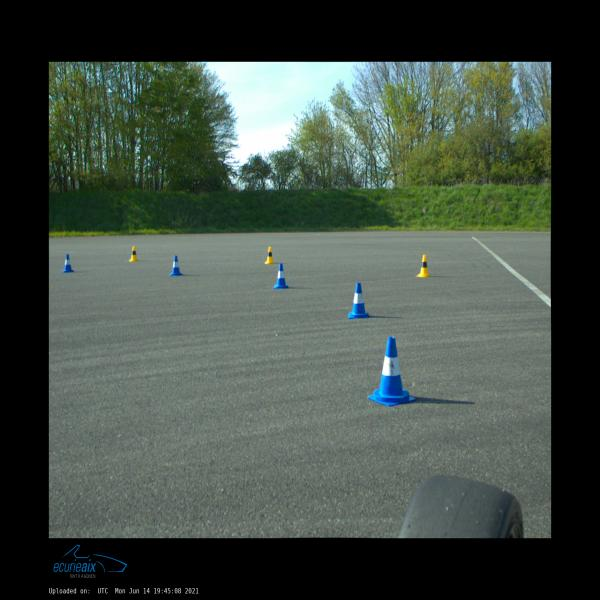blue_cone: (368, 337, 415, 406), (348, 282, 369, 318), (272, 263, 290, 289), (169, 256, 184, 276), (63, 254, 74, 272)
yellow_cone: (416, 255, 430, 277), (265, 246, 275, 264), (129, 246, 139, 262)
